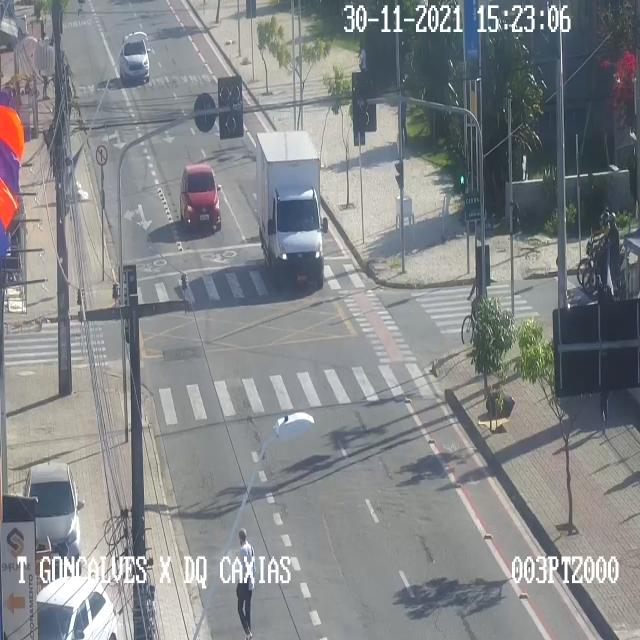Car: (23, 462, 85, 559), (37, 575, 115, 639), (180, 161, 222, 233), (119, 33, 153, 84)
Motorcycle: (582, 212, 630, 295), (577, 208, 628, 286)
Truck: (256, 132, 328, 294)
